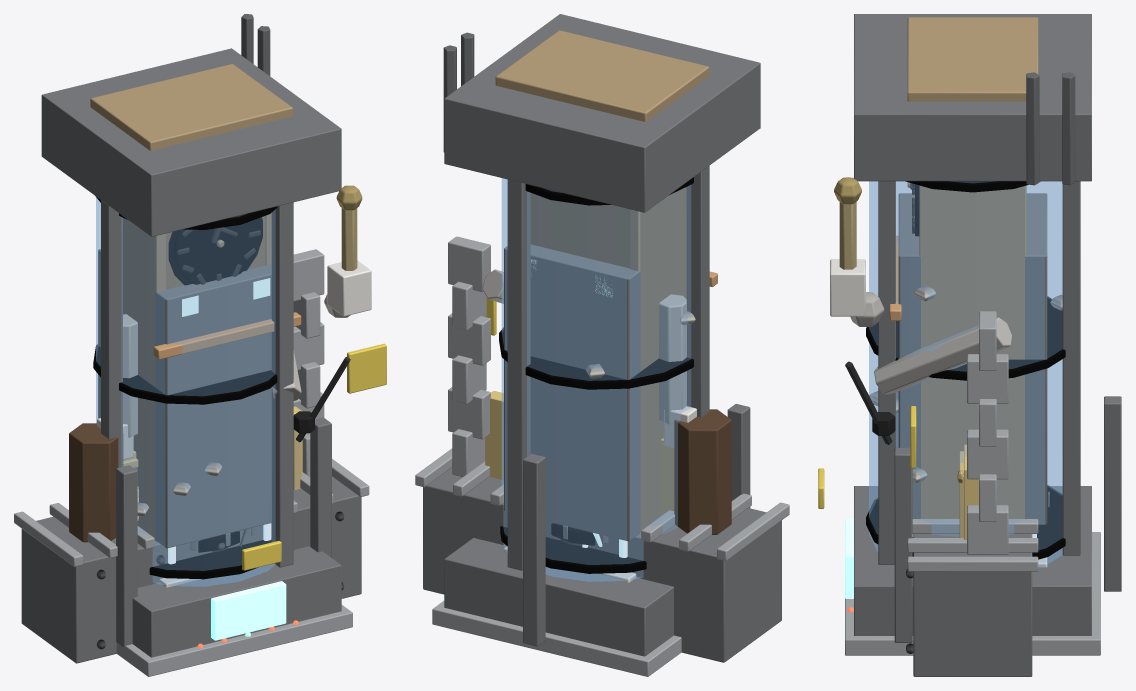
File: loot.glb
3 renders of one model, left to right at view 1: azimuth 30°, elevation 25°; view 2: azimuth 150°, elevation 25°; view 3: azimuth 270°, elevation 25°, orthographic. The views are drawn at different scales.
Parts seen in each view (by area): view 1: cryo, anchor, clock, coil, statue, painting; view 2: cryo, anchor, clock, coil, statue, painting; view 3: cryo, anchor, clock, coil, statue, painting.
Boxes of the visible parts, x1=… form: cryo: x1=41, y1=14, x2=352, y2=676; anchor: x1=14, y1=249, x2=386, y2=663; clock: x1=90, y1=64, x2=292, y2=541; coil: x1=116, y1=357, x2=350, y2=647; statue: x1=97, y1=185, x2=371, y2=587; painting: x1=123, y1=406, x2=302, y2=519; cryo: x1=432, y1=14, x2=760, y2=676; anchor: x1=415, y1=236, x2=789, y2=662; clock: x1=495, y1=30, x2=709, y2=533; coil: x1=523, y1=404, x2=750, y2=646; statue: x1=482, y1=269, x2=696, y2=582; painting: x1=485, y1=391, x2=674, y2=515; cryo: x1=845, y1=14, x2=1100, y2=655; anchor: x1=889, y1=193, x2=1047, y2=676; clock: x1=907, y1=17, x2=1038, y2=518; coil: x1=818, y1=361, x2=1121, y2=642; statue: x1=830, y1=177, x2=1047, y2=567; painting: x1=957, y1=444, x2=978, y2=539.
Bounding box in the file's own units: 1.32 × 2.22 × 1.02.
